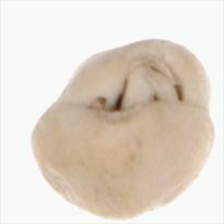L3: (96, 53, 190, 115)
L4: (31, 39, 216, 220)
